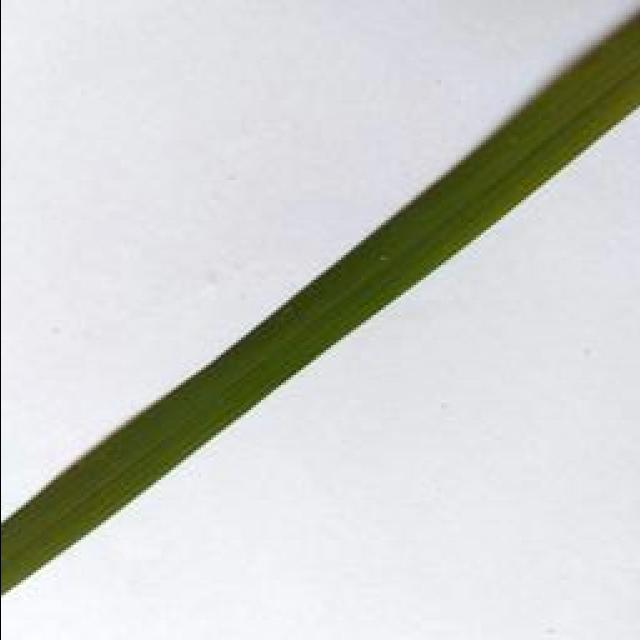Healthy: (0, 12, 640, 596)
